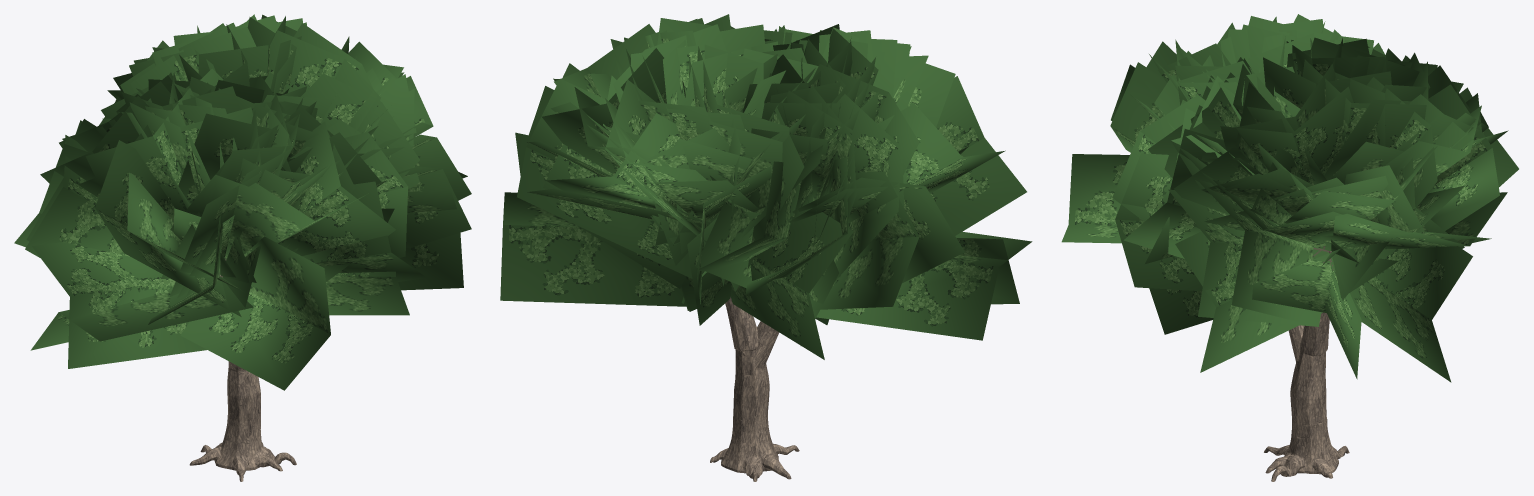
The model's file is environment_elm5_v76.fbx.
The picture shows the model from 3 angles, left to right: view 1: azimuth 30°, elevation 25°; view 2: azimuth 150°, elevation 25°; view 3: azimuth 270°, elevation 25°; orthographic projection. The views are drawn at different scales.
Visible parts, largest first — view 1: environment_elm5_v76_lod0; view 2: environment_elm5_v76_lod0; view 3: environment_elm5_v76_lod0.
Boxes of the visible parts, bbox=[...] form: environment_elm5_v76_lod0: bbox=[14, 14, 471, 481]; environment_elm5_v76_lod0: bbox=[500, 14, 1032, 481]; environment_elm5_v76_lod0: bbox=[1061, 14, 1518, 481].
Size of what is drawn, in the model's own units: 2751 by 2534 by 2486.
2 materials, 2 textured.
